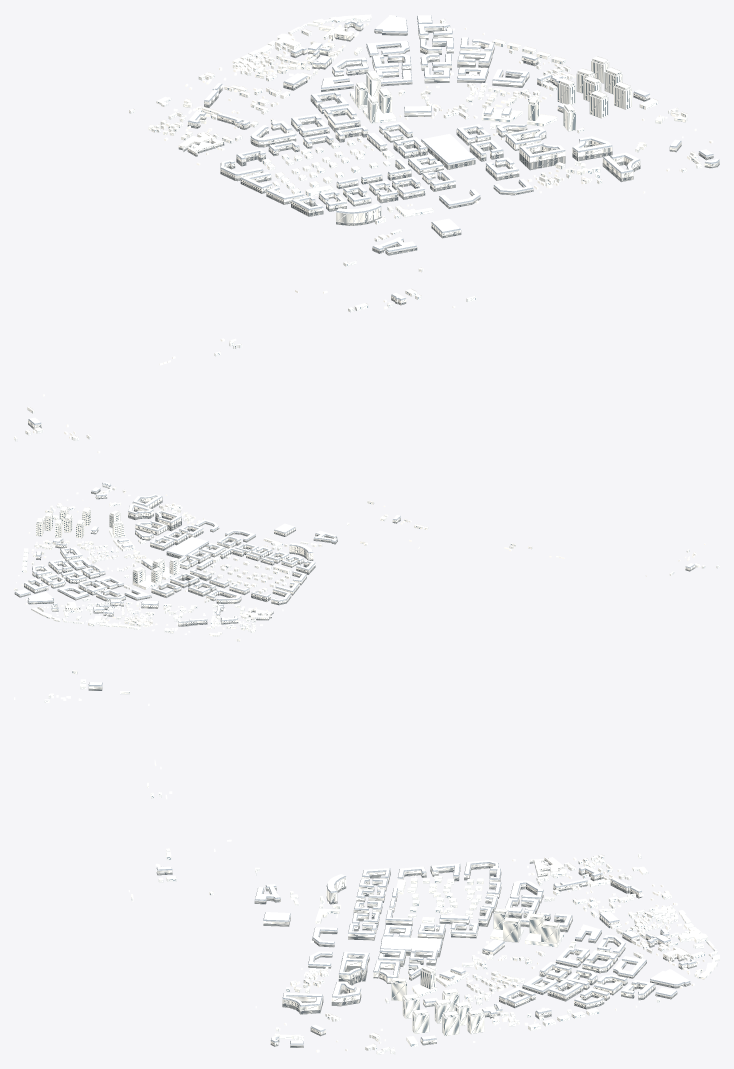
Rendered from district-whitecity.glb.
The picture shows the model from 3 angles, top to bottom: view 1: azimuth 30°, elevation 25°; view 2: azimuth 150°, elevation 25°; view 3: azimuth 270°, elevation 25°; orthographic projection. The views are drawn at different scales.
Parts seen in each view (by area): view 1: whitecity; view 2: whitecity; view 3: whitecity.
Part boxes in pixels (x1,y1,x2,y2): whitecity: (14, 14, 719, 453); whitecity: (14, 482, 719, 641); whitecity: (14, 670, 719, 1054).
Size of the model in its own units: 2815 by 121 by 2181.
8 materials, 5 textured.
